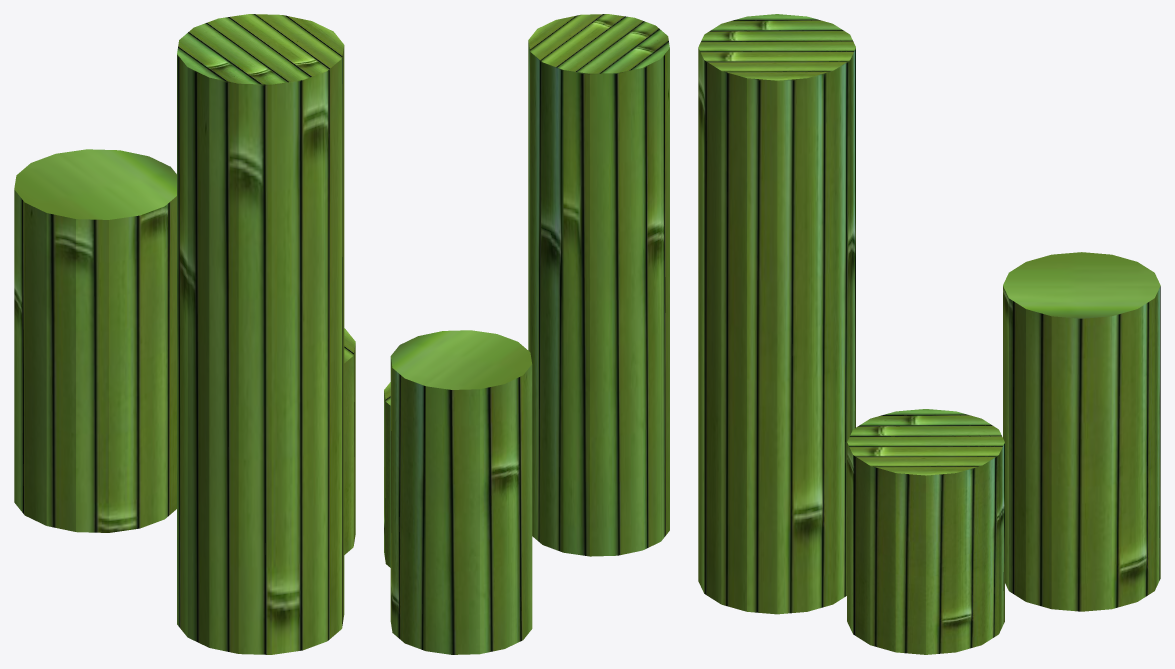
Rendered from Bamboo.fbx.
3 renders of one model, left to right at view 1: azimuth 30°, elevation 25°; view 2: azimuth 150°, elevation 25°; view 3: azimuth 270°, elevation 25°, orthographic. The views are drawn at different scales.
Visible parts, largest first — view 1: halfDeveloped; view 2: halfDeveloped; view 3: halfDeveloped.
Boxes of the visible parts, box(x1,y1,x2,y2) form: halfDeveloped: box(14, 14, 355, 654); halfDeveloped: box(384, 14, 669, 654); halfDeveloped: box(698, 14, 1160, 654).
Bounding box in the file's own units: 64.94 × 149 × 117.
